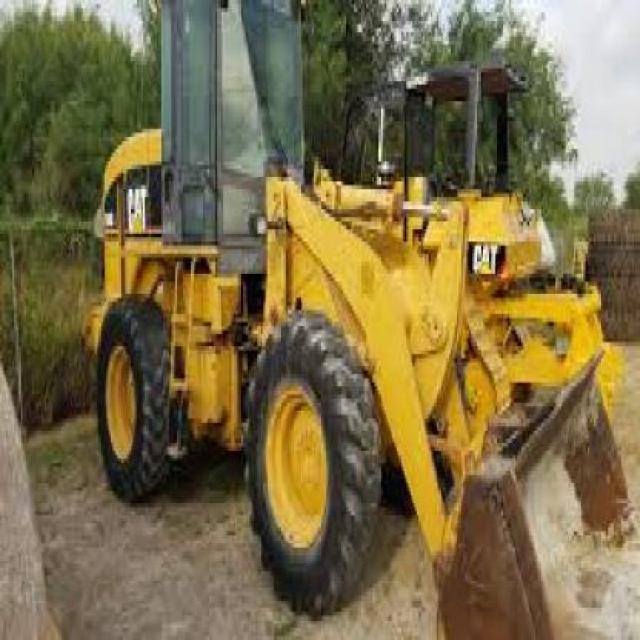buldozerpayloadergrader: (49, 1, 640, 640)
